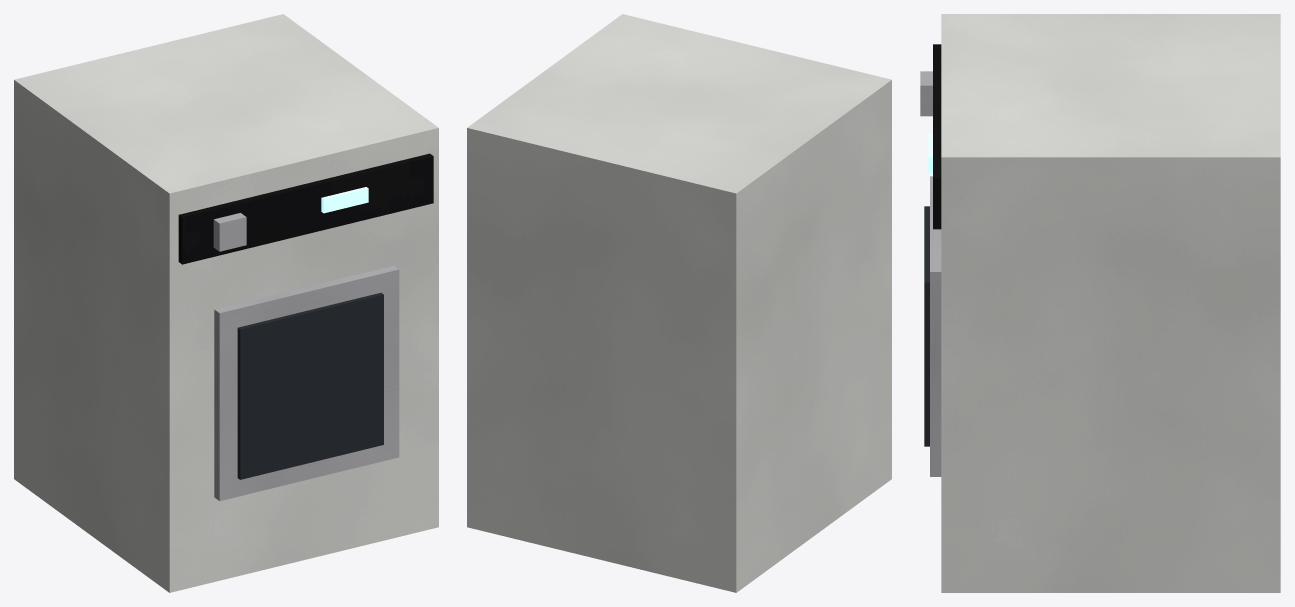
3 views of the same model, side by side, from view 1: azimuth 30°, elevation 25°; view 2: azimuth 150°, elevation 25°; view 3: azimuth 270°, elevation 25° (orthographic). The views are drawn at different scales.
Visible parts, largest first — view 1: WashingMachine_Game; view 2: WashingMachine_Game; view 3: WashingMachine_Game.
Boxes of the visible parts, bbox=[...] form: WashingMachine_Game: bbox=[14, 14, 438, 592]; WashingMachine_Game: bbox=[467, 14, 891, 592]; WashingMachine_Game: bbox=[920, 14, 1280, 592].
Size of the model in its own units: 0.6 by 0.85 by 0.637.
Materials: 5 (3 with a texture image).
